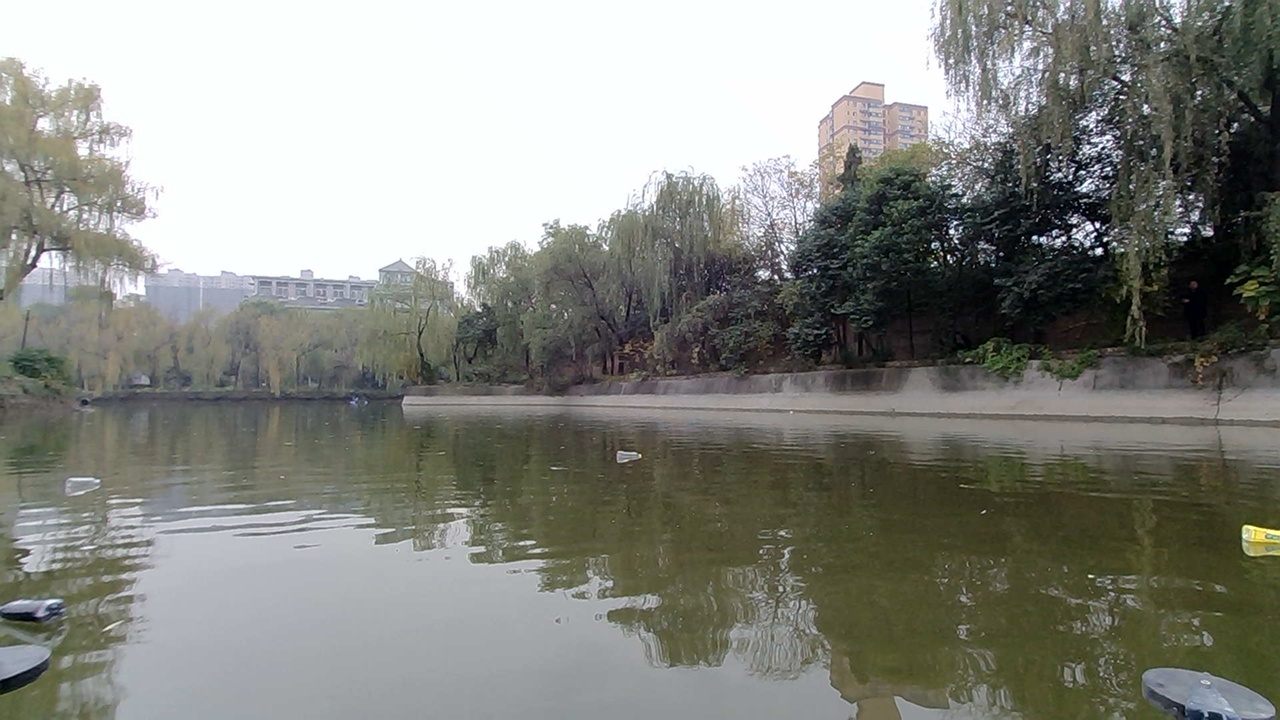bottle: (35, 462, 132, 505), (608, 432, 663, 471), (1240, 519, 1280, 564)
